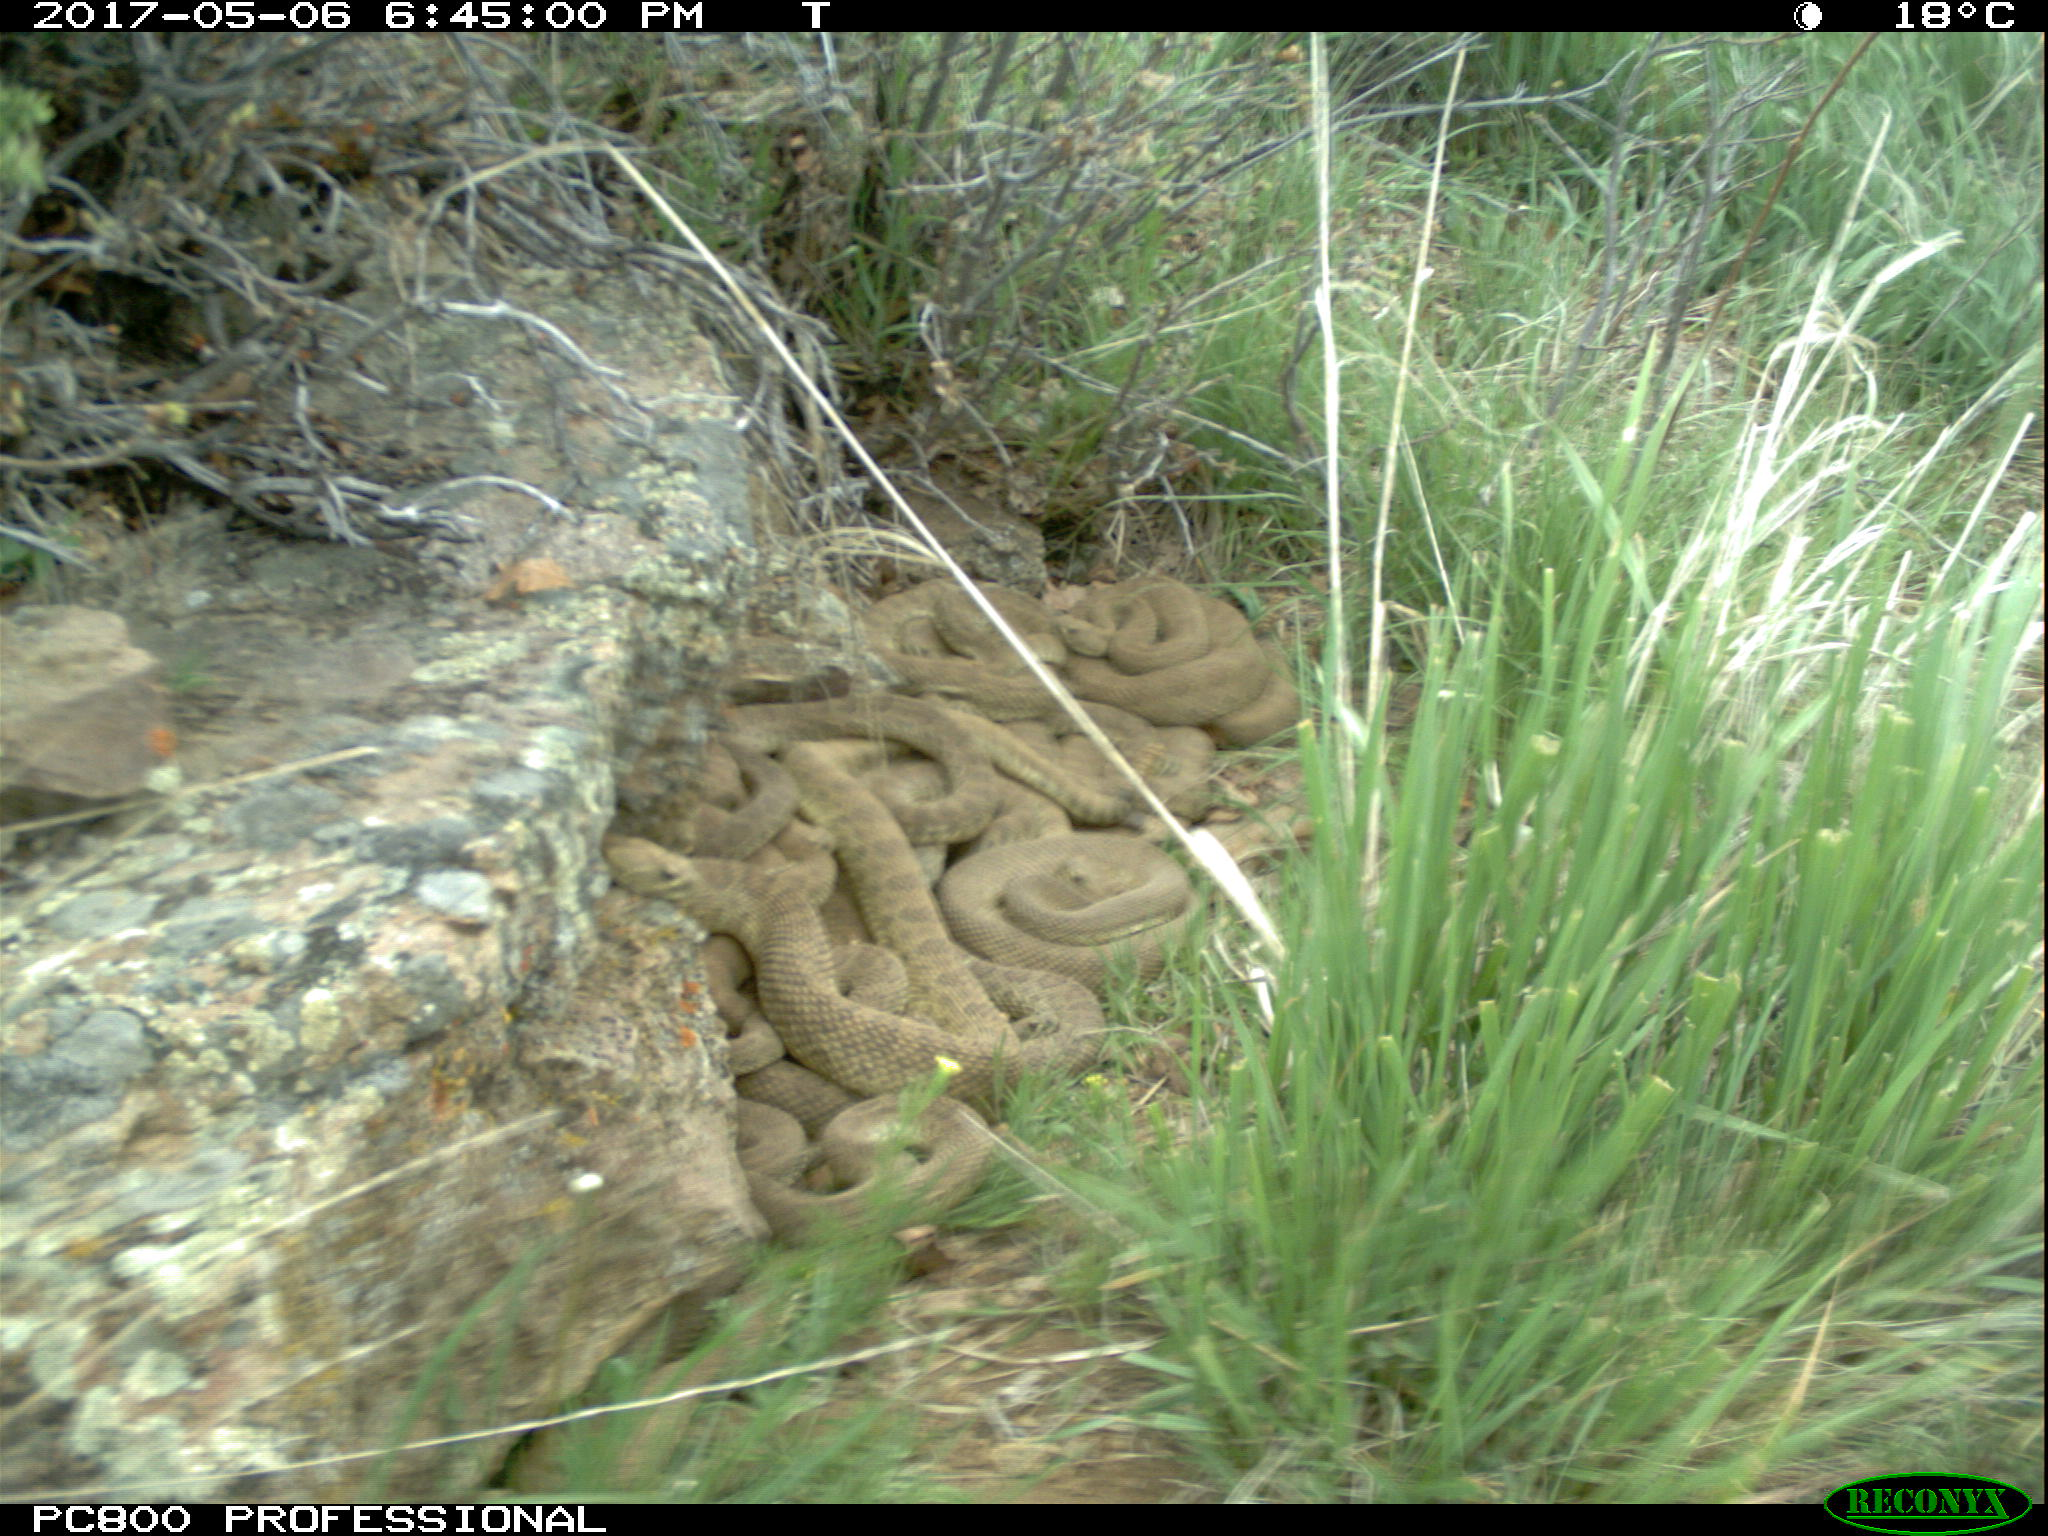snake: (619, 831, 1027, 1092), (734, 1052, 1019, 1220), (1050, 574, 1305, 742), (698, 699, 1005, 836), (942, 824, 1219, 966), (984, 707, 1255, 829), (876, 579, 1080, 702), (980, 971, 1119, 1083)
